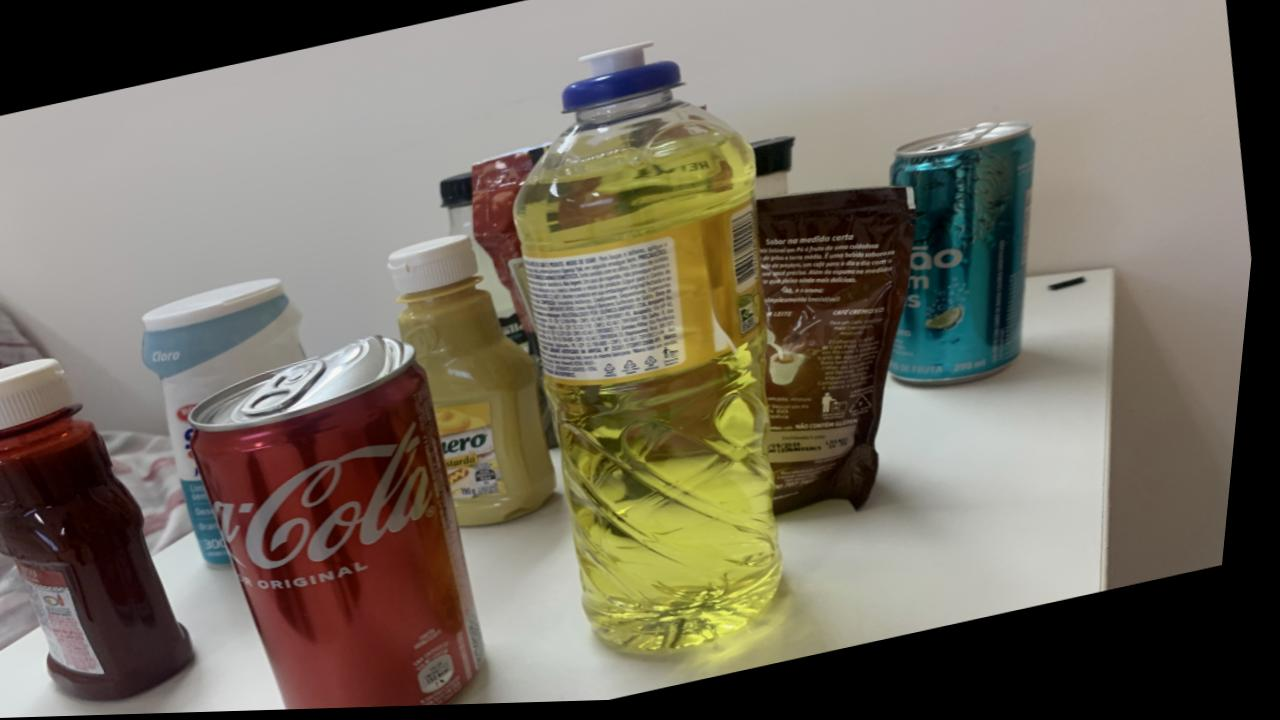Cleaner-Cleanup_Items: (148, 279, 313, 566)
Coffee-Pantry_Items: (760, 192, 920, 518)
Coke-Drinks: (197, 338, 497, 712)
Detergent-Cleanup_Items: (518, 46, 793, 654)
Ketchup-Pantry_Items: (0, 359, 206, 702)
Mustard-Pantry_Items: (393, 236, 566, 529)
Tea-Drinks: (894, 134, 1039, 390)
